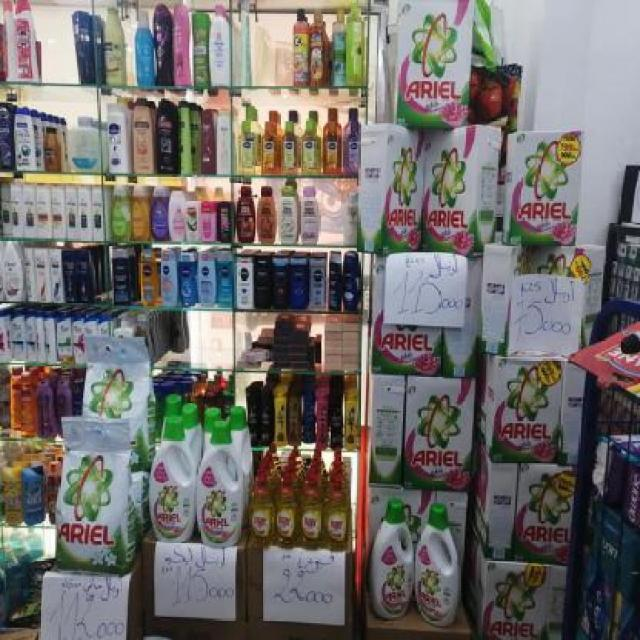Detergent: (52, 418, 133, 574), (418, 121, 499, 252), (394, 0, 472, 126), (506, 125, 585, 244), (397, 373, 475, 492), (486, 353, 563, 461), (359, 127, 423, 256), (148, 402, 198, 546), (412, 493, 463, 630), (514, 462, 575, 564), (198, 417, 245, 545), (372, 496, 416, 622), (482, 568, 550, 640)
